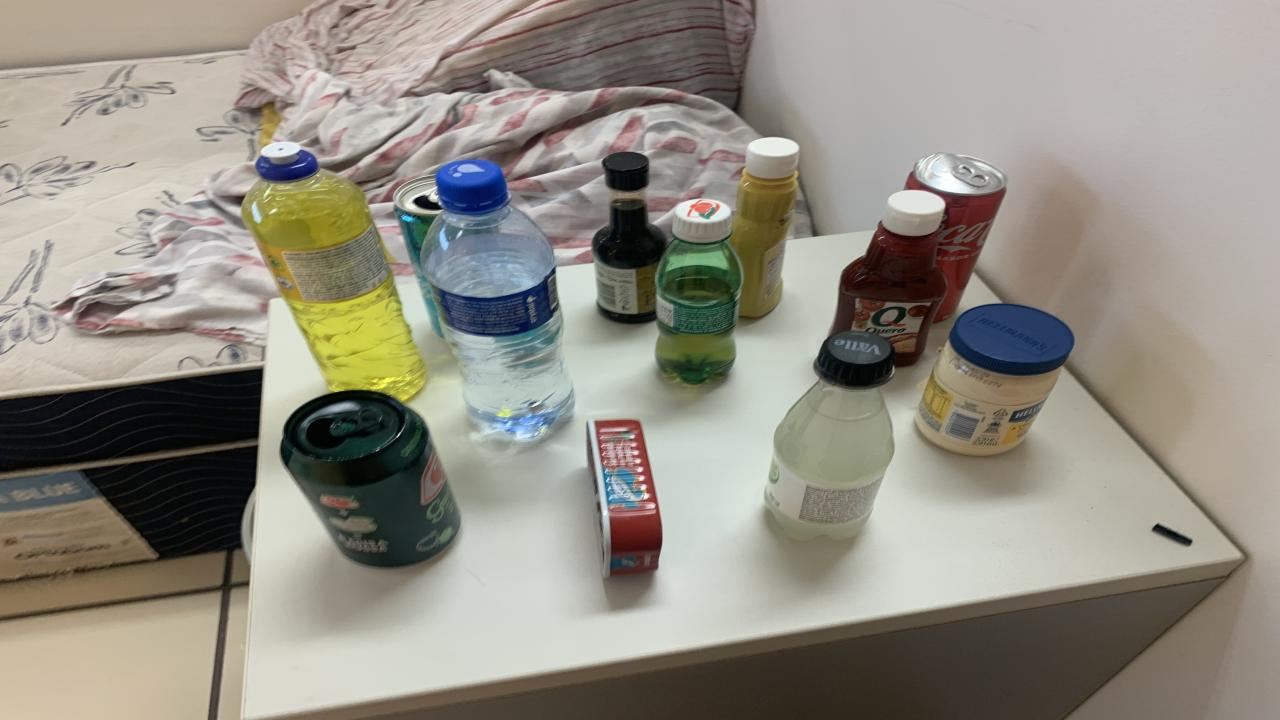Coke-Drinks: (902, 152, 1008, 322)
Detergent-Cleanup_Items: (240, 141, 425, 399)
English_Sauce-Pantry_Items: (592, 152, 668, 322)
Guarana-Drinks: (655, 199, 742, 384)
Guarana_Can-Drinks: (280, 390, 460, 566)
Ketchup-Pantry_Items: (830, 189, 948, 366)
Mayonnaise-Pantry_Items: (915, 304, 1072, 456)
Mustard-Pantry_Items: (730, 137, 798, 317)
Soda-Drinks: (765, 330, 895, 540)
Tea-Drinks: (392, 174, 442, 336)
Tuna_Can-Pantry_Items: (588, 418, 662, 576)
Water_Bottle-Drinks: (420, 159, 572, 439)
